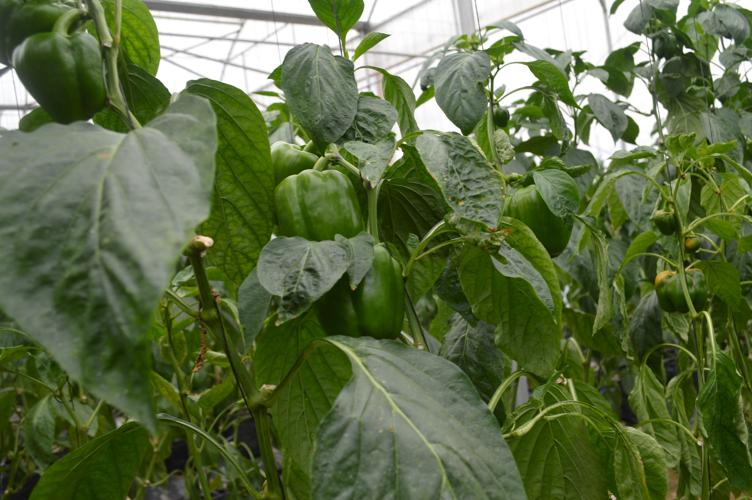BellPepper: (10, 28, 116, 129), (308, 249, 409, 342), (271, 166, 368, 249), (500, 176, 571, 265), (648, 255, 714, 331)
